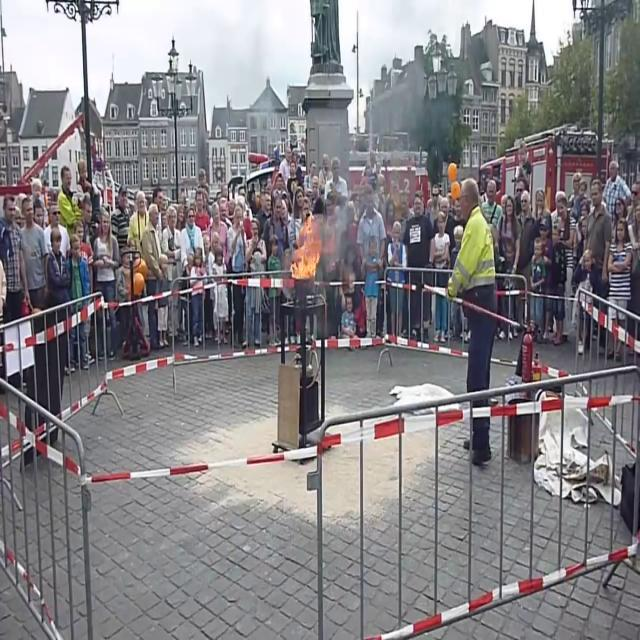Fire: (288, 221, 320, 281)
Smoke: (326, 161, 390, 278)
